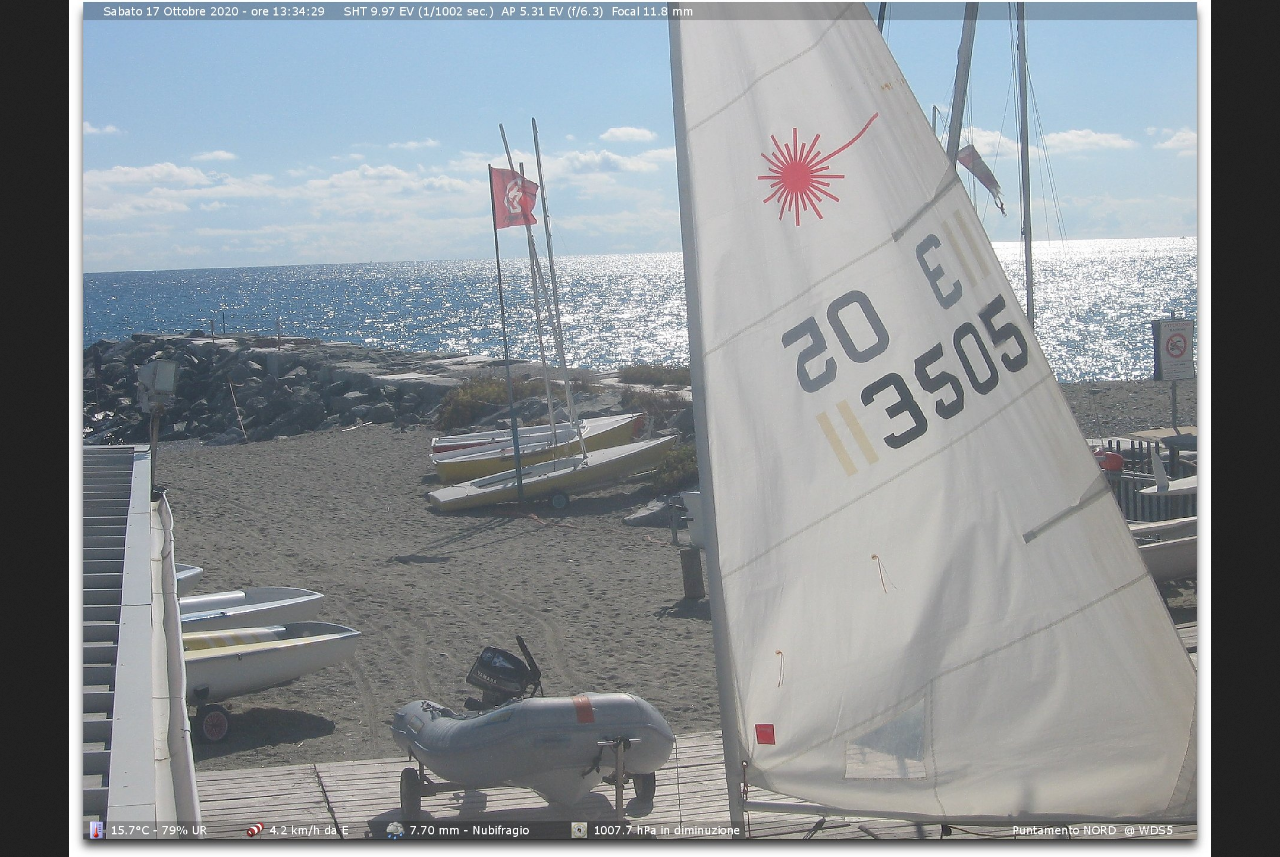yes: (490, 159, 540, 236)
